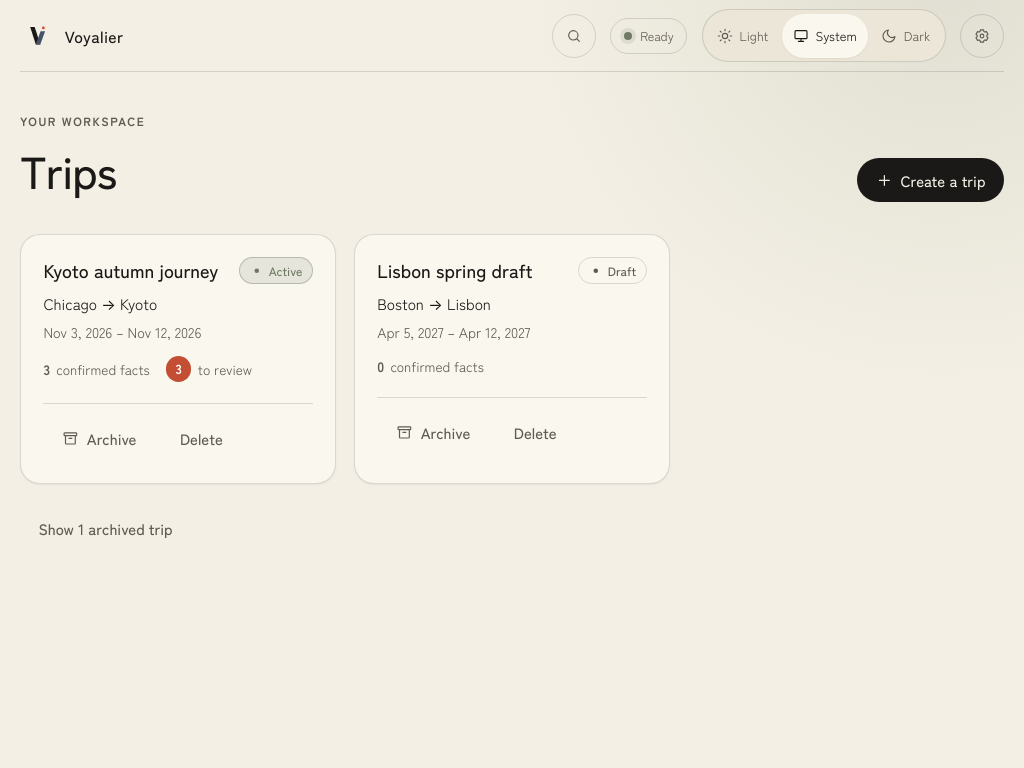
Test: concierge save recovery › preserves a newer Item draft after an earlier save succeeds
Click the button with aria-label "Open Kyoto autumn journey": (131, 270) left=43, top=257, right=218, bottom=283
(page scrolled)
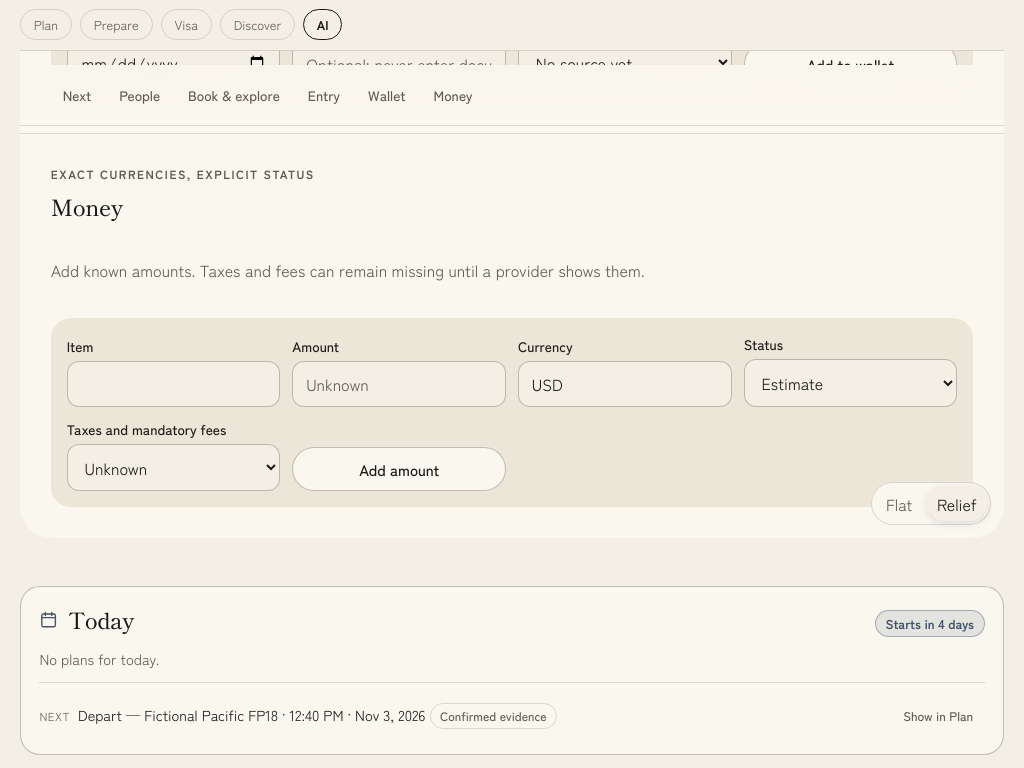
In the field labelled "Item": (174, 384) left=67, top=361, right=280, bottom=407, type "First estimate"
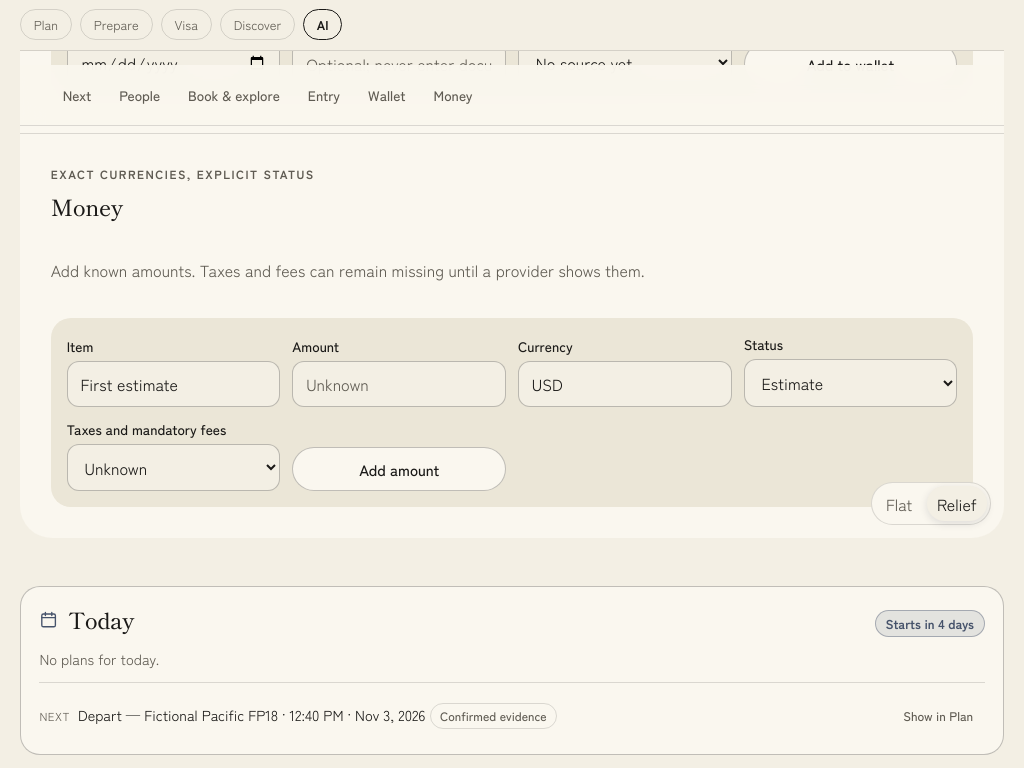
Submit the form "Item", box left=51, top=318, right=973, bottom=507
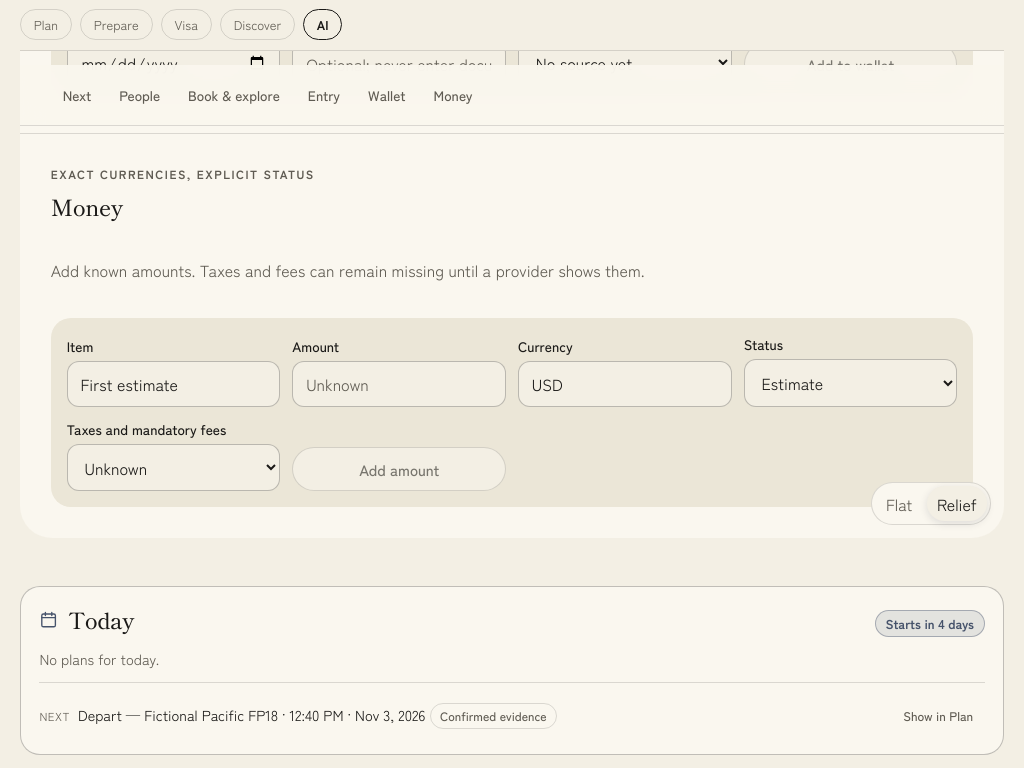
Replace the text in the field labelled "Item" with "Next estimate": (174, 384) left=67, top=361, right=280, bottom=407
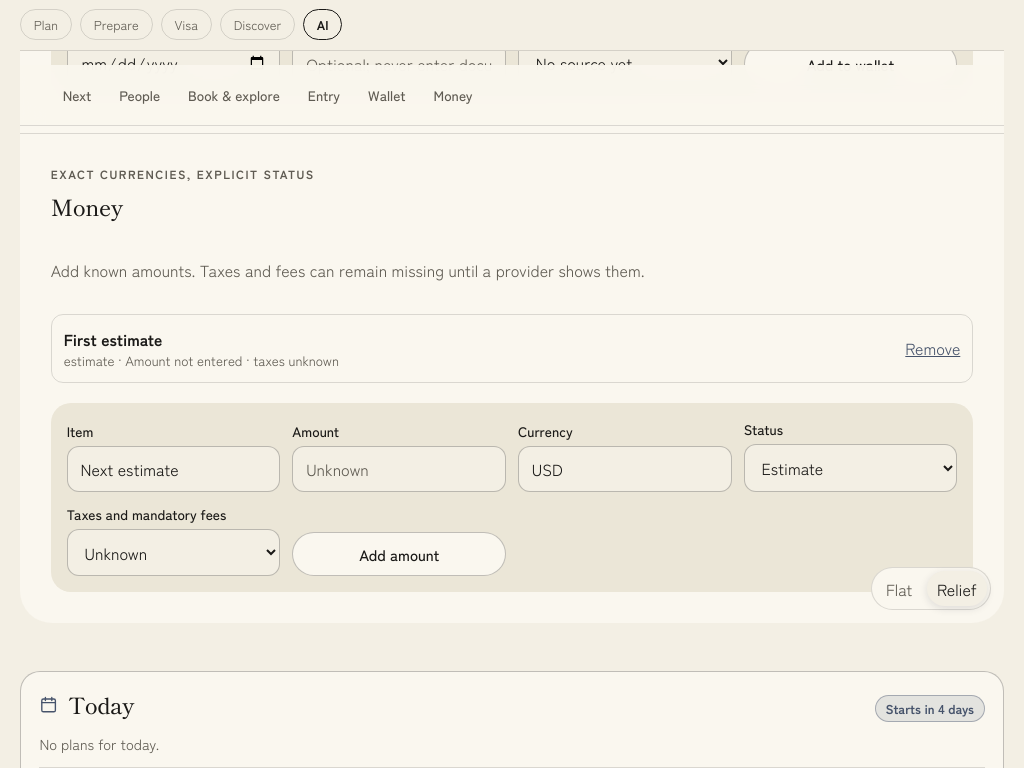
Check: the text "First estimate" is shown, box left=64, top=327, right=162, bottom=351
